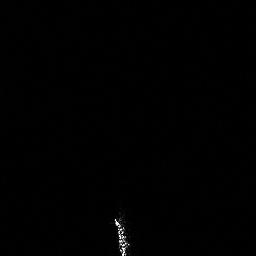ship: (109, 212, 134, 256)
